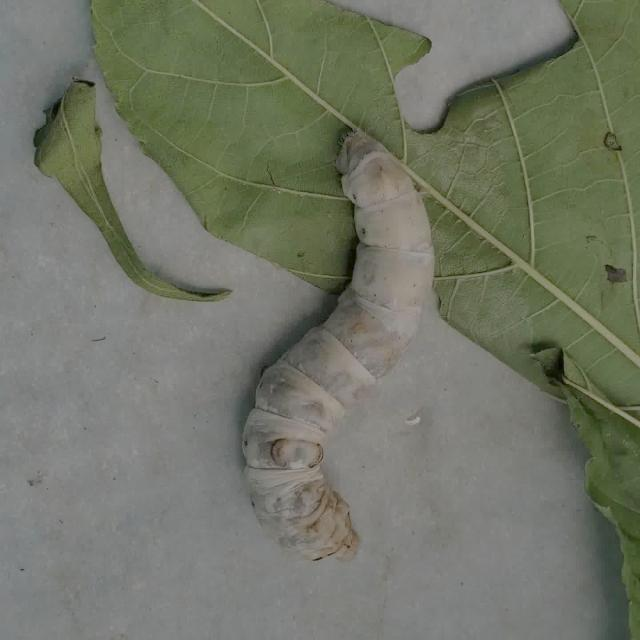Grasserie: (187, 86, 468, 586)
